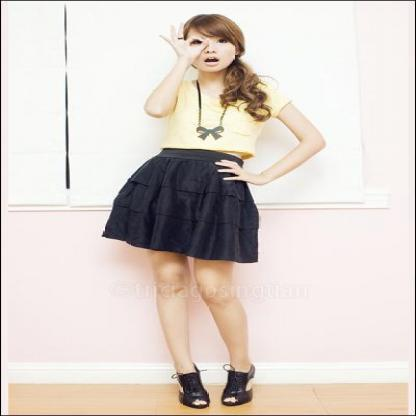shirt: (169, 80, 294, 152)
shoe: (177, 365, 254, 404)
skirt: (102, 148, 258, 262)
